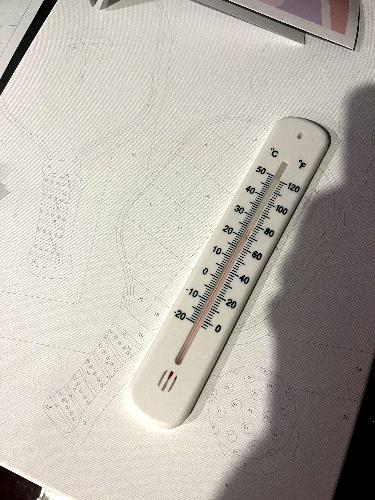thermo: (124, 105, 337, 430)
